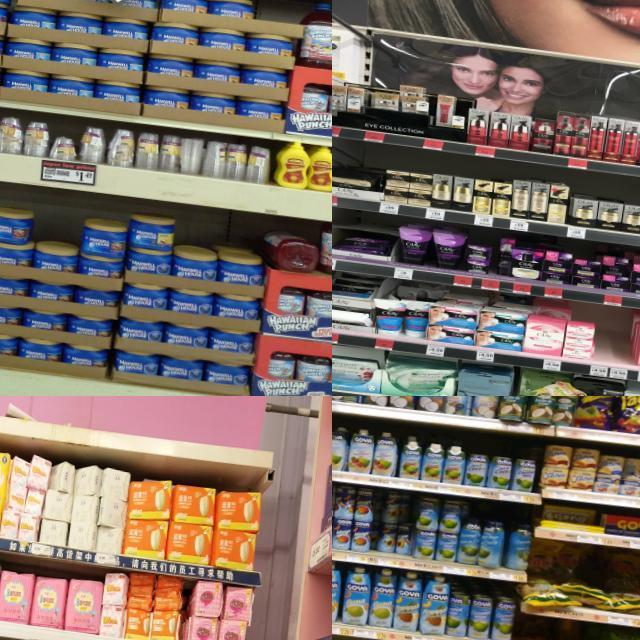empty: (592, 310, 614, 378), (610, 316, 634, 378)
